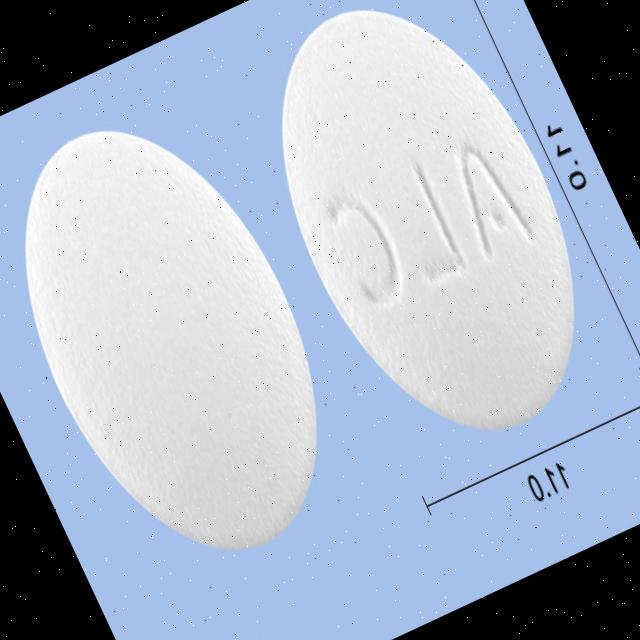Ciprofloxacin Hcl Tab- Arlico: (214, 0, 640, 483), (0, 82, 381, 604)
